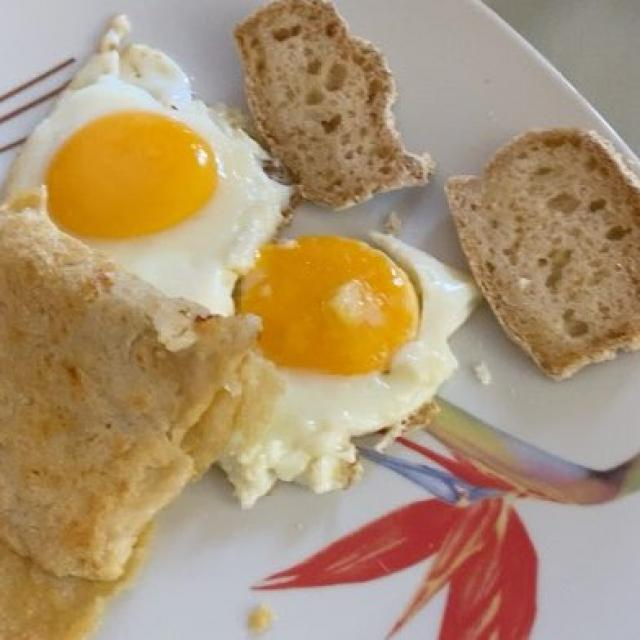egg: (38, 42, 468, 500)
gluten-free-bread: (257, 0, 633, 370)
